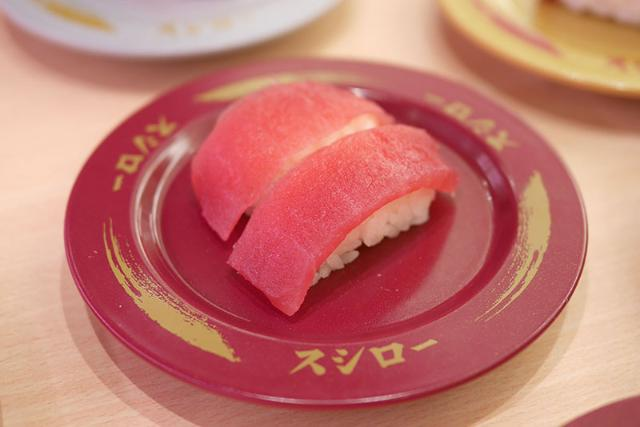jangold: (429, 0, 640, 96)
janred: (89, 70, 548, 364), (580, 389, 640, 427)
janwhite: (19, 1, 341, 58)
